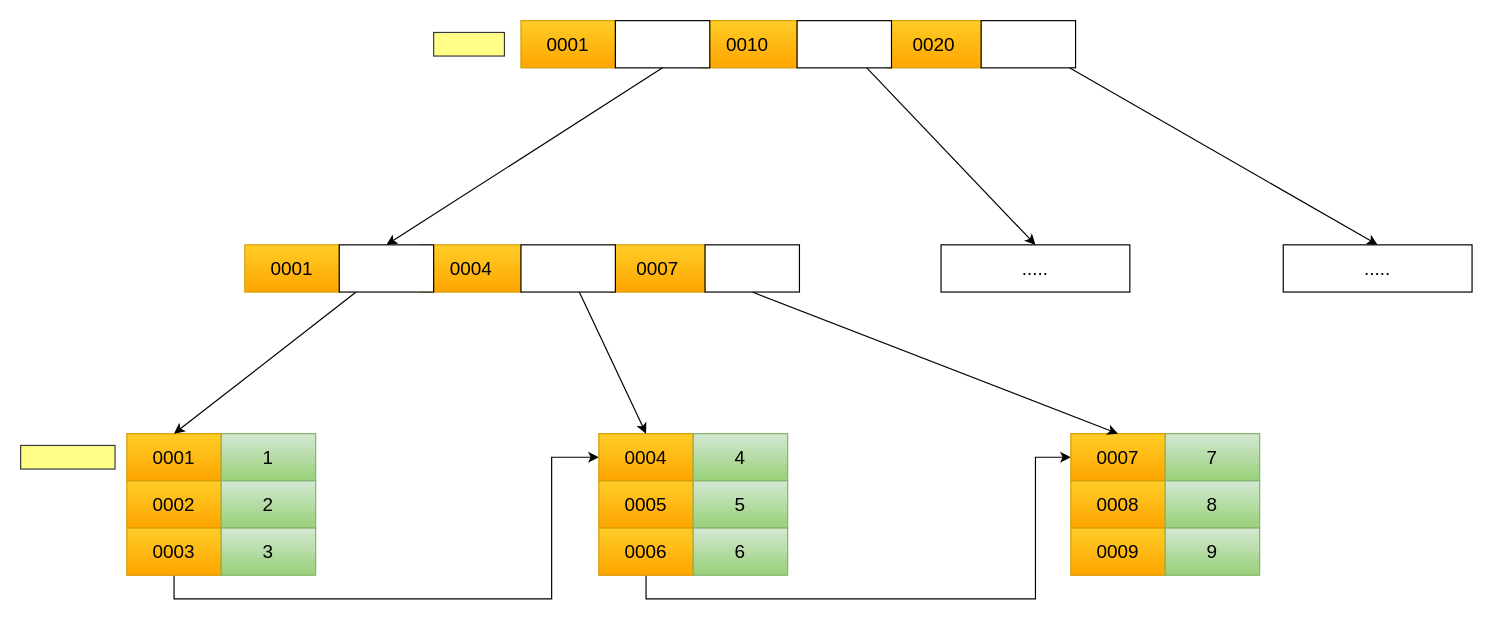
Image size: 1493x629. Some labels were removed from this diagram. Here are the shapes that lost their labels. From the top down, the box of each, then its label:
(432, 31, 504, 56): 根节点
(19, 444, 115, 469): 叶子节点
